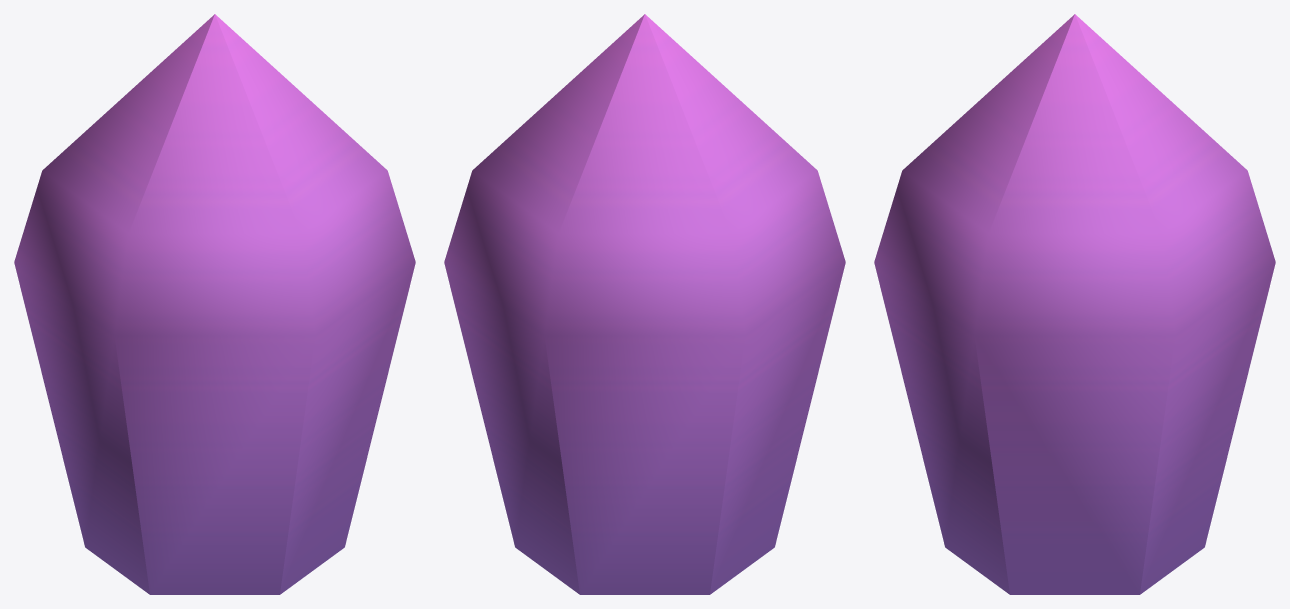
Rendered from detail-crystal.gltf.
3 views of the same model, side by side, from view 1: azimuth 30°, elevation 25°; view 2: azimuth 150°, elevation 25°; view 3: azimuth 270°, elevation 25° (orthographic).
Visible parts, largest first — view 1: detail-crystal; view 2: detail-crystal; view 3: detail-crystal.
Boxes of the visible parts, left/top/right/bottom form: detail-crystal: left=14, top=14, right=415, bottom=594; detail-crystal: left=444, top=14, right=845, bottom=594; detail-crystal: left=874, top=14, right=1275, bottom=594.
Bounding box in the file's own units: 0.2512 × 0.425 × 0.29.
Materials: 1 (1 with a texture image).
